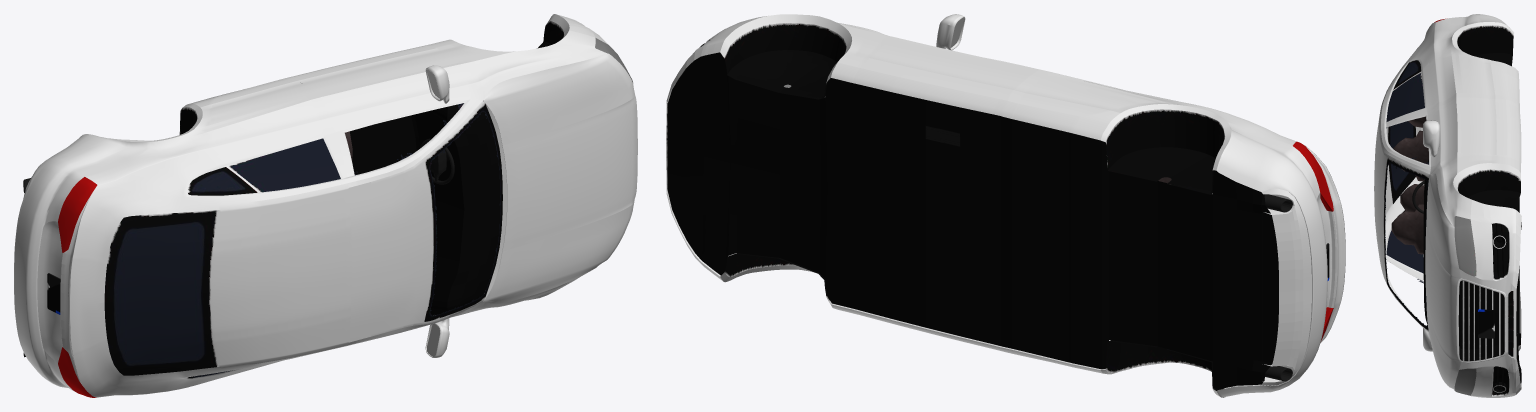
Rendered from audi_chassis_white.obj.
The picture shows the model from 3 angles, left to right: view 1: azimuth 30°, elevation 25°; view 2: azimuth 150°, elevation 25°; view 3: azimuth 270°, elevation 25°; orthographic projection. The views are drawn at different scales.
Visible parts, largest first — view 1: audi_chassis; view 2: audi_chassis; view 3: audi_chassis.
Part boxes in pixels (box(x1,y1,x2,y2)): audi_chassis: box(14, 14, 637, 397); audi_chassis: box(666, 14, 1345, 397); audi_chassis: box(1374, 14, 1521, 397).
Size of the model in its own units: 4.88 by 2.19 by 1.28.
Materials: 2 (2 with a texture image).
